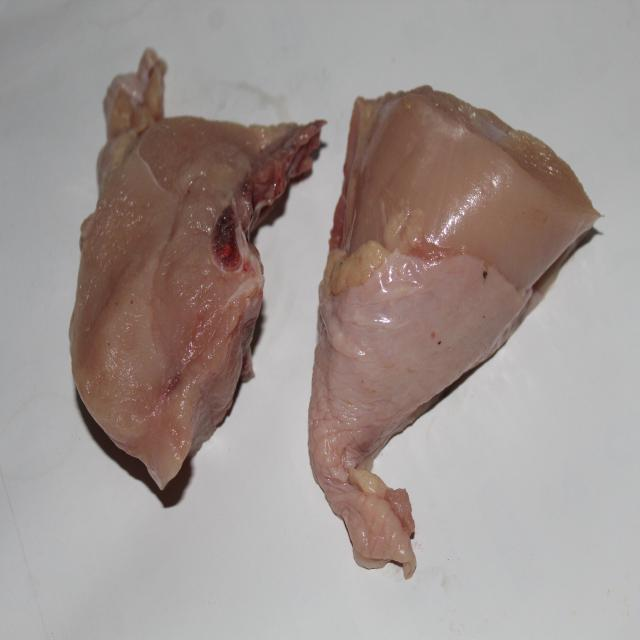chicken: (308, 89, 600, 574), (76, 51, 324, 493)
